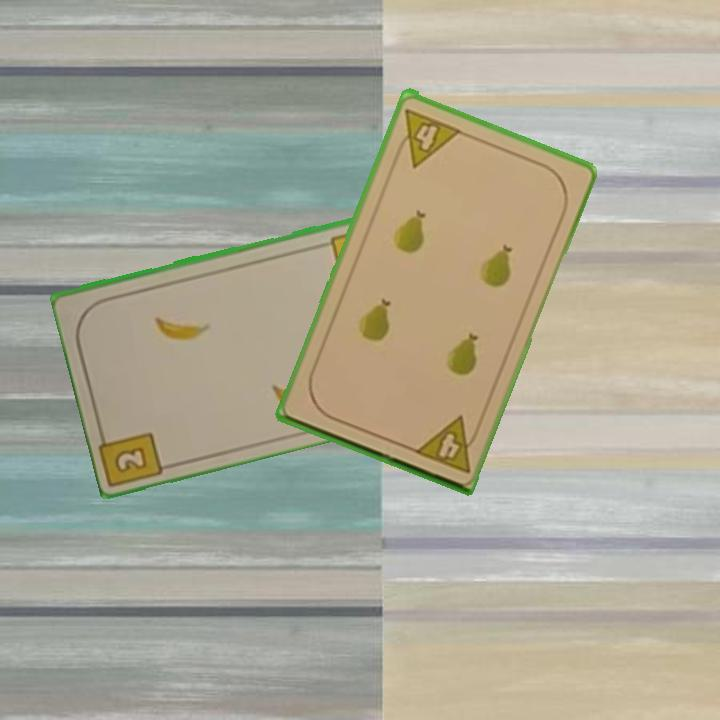2b: (111, 442, 151, 476)
4p: (390, 104, 464, 170), (410, 412, 484, 476)
